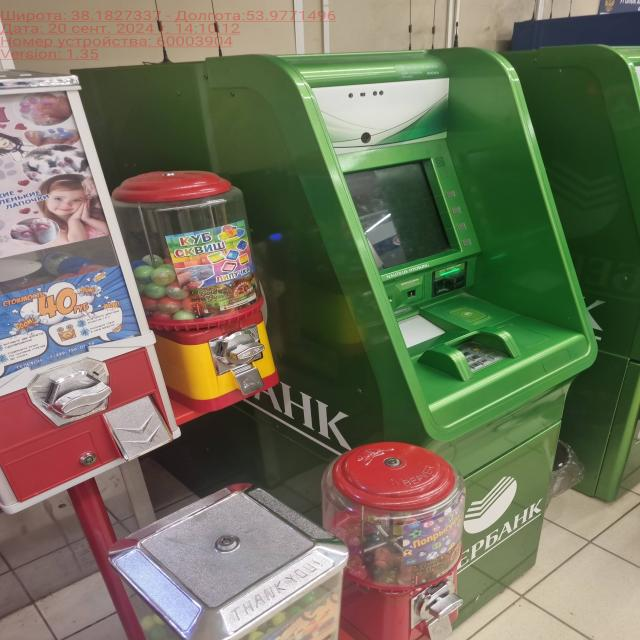bank: (51, 49, 588, 640)
